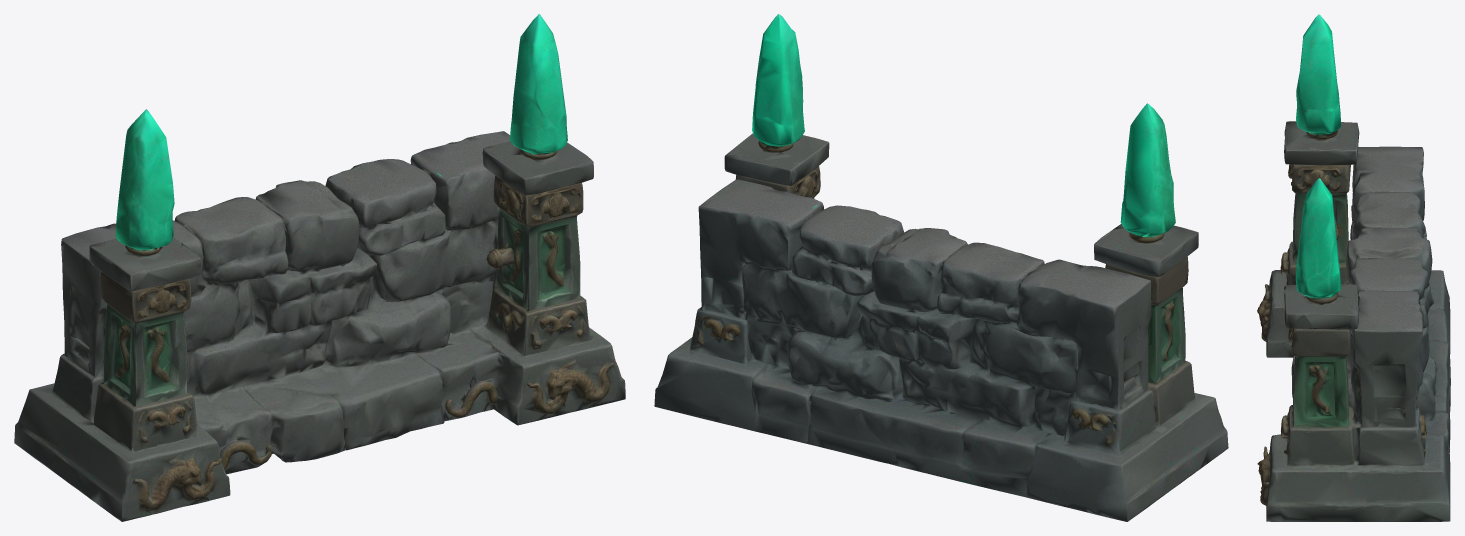
The model's file is barrier.glb.
The picture shows the model from 3 angles, left to right: view 1: azimuth 30°, elevation 25°; view 2: azimuth 150°, elevation 25°; view 3: azimuth 270°, elevation 25°; orthographic projection. The views are drawn at different scales.
Bounding box in the file's own units: 1.9 × 1.36 × 0.7422.
Materials: 1 (1 with a texture image).
